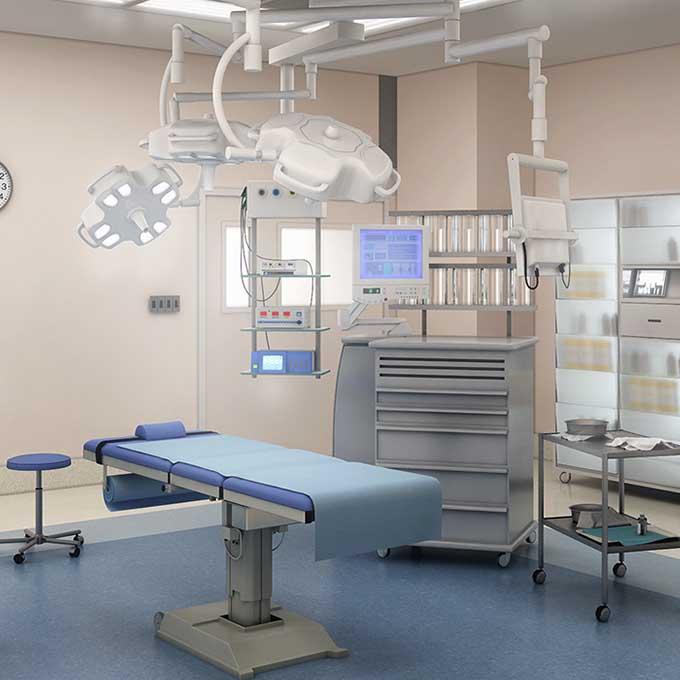bedside_monitor: (501, 197, 575, 291), (345, 228, 437, 289)
chair: (1, 448, 88, 568)
electrosurgical_unit: (251, 310, 316, 328)
medical_drawer: (368, 333, 533, 569)
operating_bed: (86, 420, 437, 680)
surgical_light: (229, 114, 400, 204), (76, 162, 182, 249)
utility_cart: (531, 421, 680, 626)
